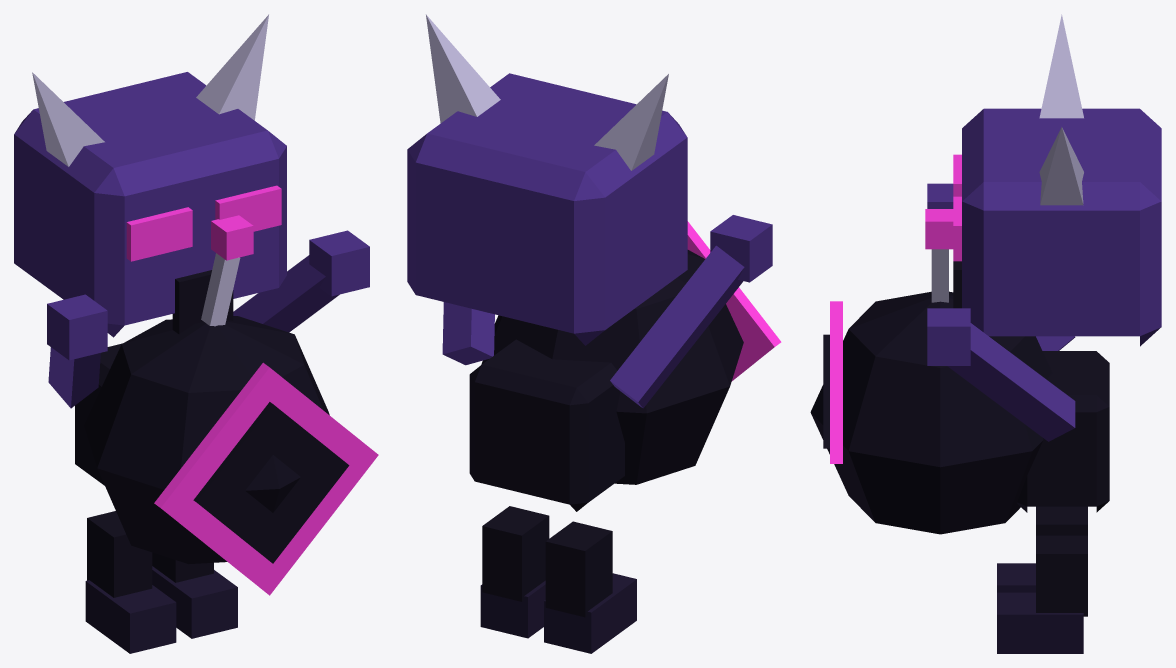
Rendered from kamikaze_r16.glb.
3 views of the same model, side by side, from view 1: azimuth 30°, elevation 25°; view 2: azimuth 150°, elevation 25°; view 3: azimuth 270°, elevation 25° (orthographic). The views are drawn at different scales.
Visible parts, largest first — view 1: kamikaze_r16_mesh; view 2: kamikaze_r16_mesh; view 3: kamikaze_r16_mesh.
Boxes of the visible parts, left/top/right/bottom form: kamikaze_r16_mesh: left=14, top=14, right=378, bottom=653; kamikaze_r16_mesh: left=407, top=14, right=781, bottom=653; kamikaze_r16_mesh: left=810, top=14, right=1161, bottom=653.
Bounding box in the file's own units: 0.7137 × 1.3 × 0.7412.
1 material, 1 textured.
